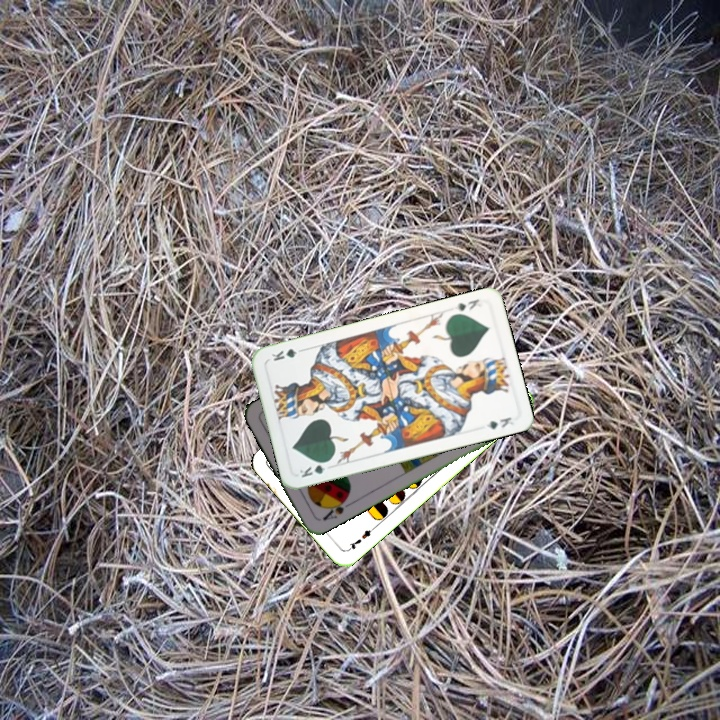E7: (343, 523, 377, 553)
GK: (295, 457, 333, 480), (450, 295, 483, 314)
SA: (318, 493, 354, 523)
